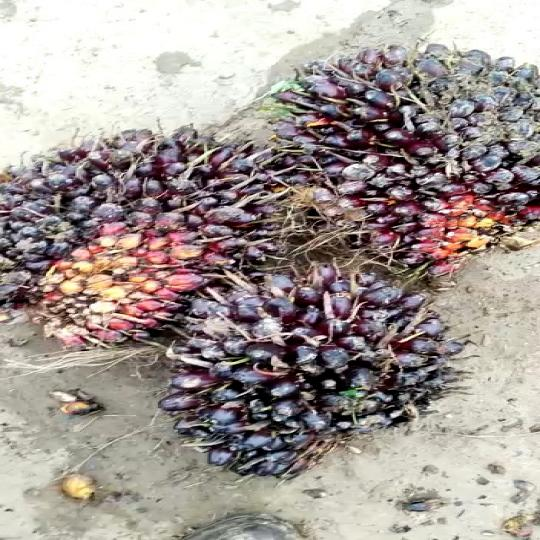kurang masak: (160, 264, 458, 492), (259, 46, 540, 266), (0, 117, 277, 330)
